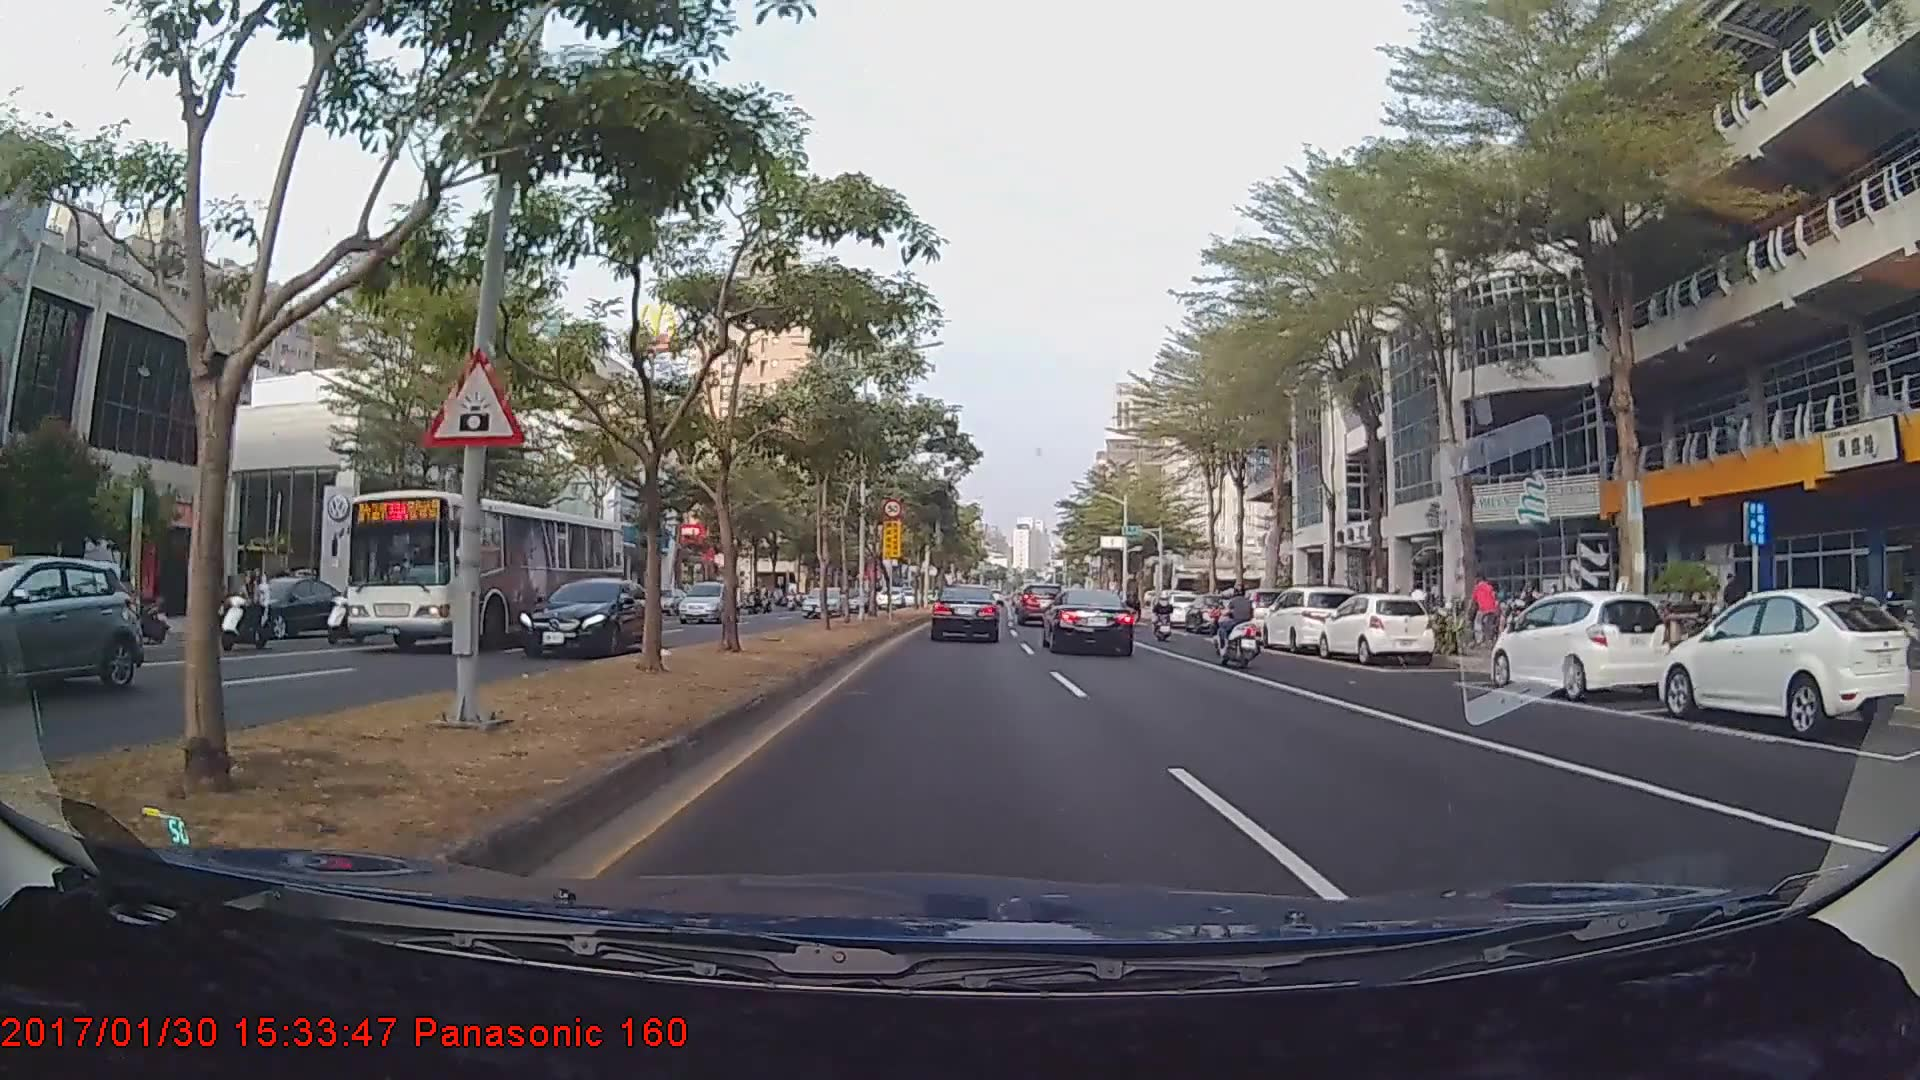rider: (1213, 582, 1268, 676), (1212, 587, 1261, 658), (1152, 586, 1180, 643)
vehicle: (339, 486, 626, 653), (1655, 585, 1913, 737), (1490, 589, 1673, 704), (0, 557, 137, 696), (516, 573, 662, 659), (215, 576, 352, 640), (1317, 593, 1433, 665), (1259, 586, 1362, 652), (1043, 586, 1136, 657), (928, 584, 1002, 642), (676, 579, 739, 625), (1016, 580, 1068, 625), (798, 584, 848, 619)
